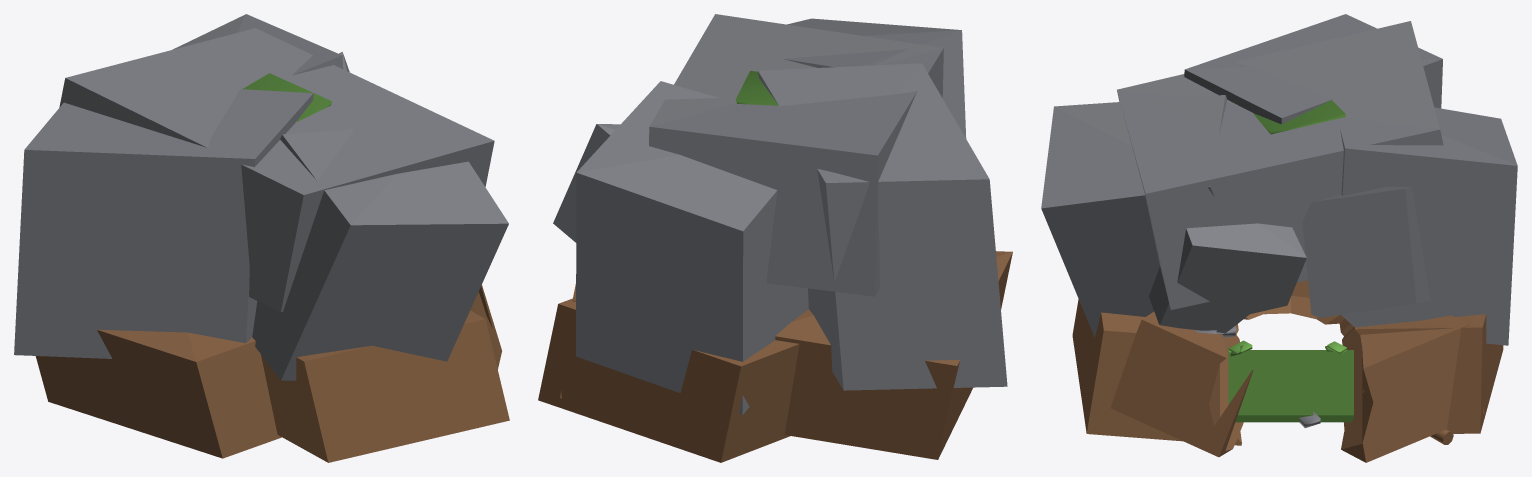
The model's file is cave-mouth-sea.glb.
3 renders of one model, left to right at view 1: azimuth 30°, elevation 25°; view 2: azimuth 150°, elevation 25°; view 3: azimuth 270°, elevation 25°, orthographic. The views are drawn at different scales.
Parts seen in each view (by area): view 1: Mesh_DryCave, Mesh_WetCave, Mesh_MossTop; view 2: Mesh_DryCave, Mesh_WetCave, Mesh_MossTop; view 3: Mesh_DryCave, Mesh_WetCave, Mesh_TidePool, Mesh_MossTop.
Part boxes in pixels (x1,y1,x2,y2): Mesh_DryCave: (14,14,508,380); Mesh_WetCave: (35,285,509,462); Mesh_MossTop: (242,73,331,121); Mesh_DryCave: (553,14,1007,414); Mesh_WetCave: (538,251,1012,462); Mesh_MossTop: (735,70,778,105); Mesh_DryCave: (1041,14,1517,345); Mesh_WetCave: (1072,280,1503,462); Mesh_TidePool: (1228,350,1353,422); Mesh_MossTop: (1253,100,1345,134).
Size of the model in its own units: 4.95 by 3.34 by 4.93.
Materials: 2 (2 with a texture image).
